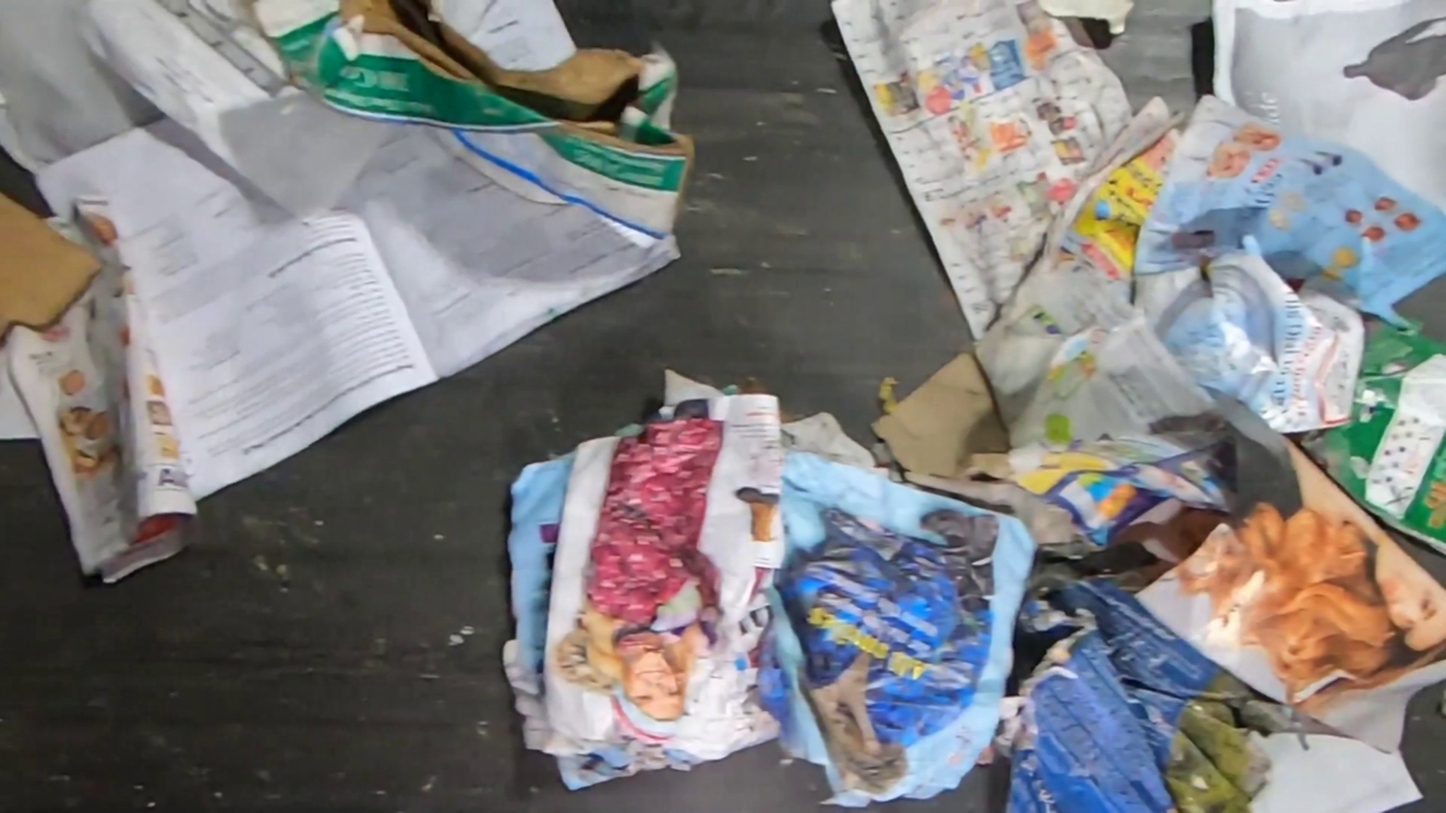cardboard: (246, 0, 698, 256), (991, 566, 1361, 813), (1293, 306, 1446, 602), (866, 349, 1023, 484), (0, 182, 112, 364)
